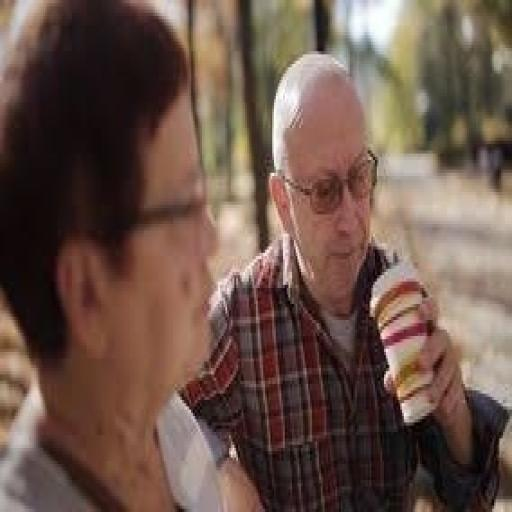sitting: (2, 0, 506, 509)
